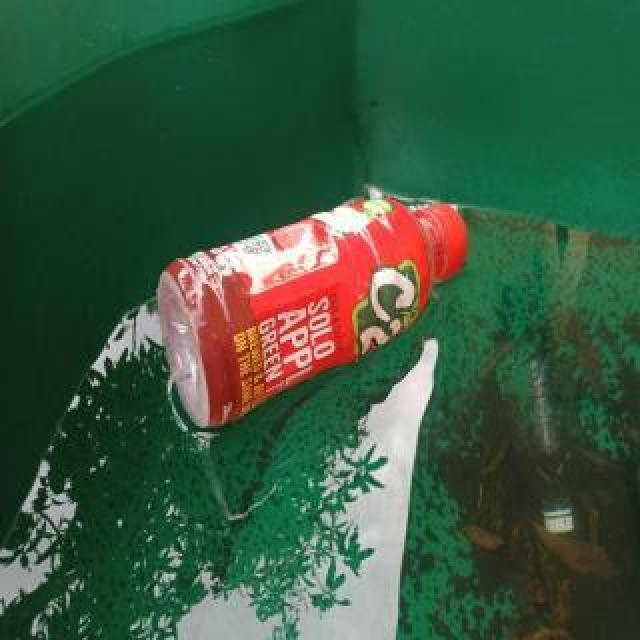bottle: (155, 193, 471, 433)
